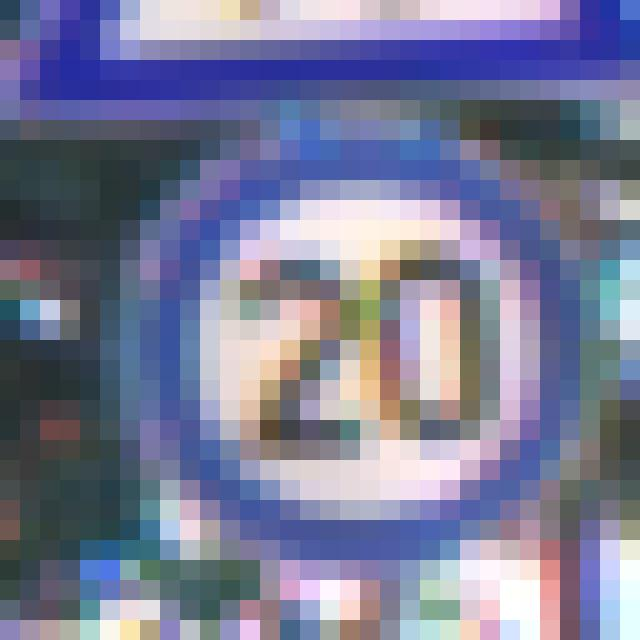SPEED LIMIT 20: (126, 139, 578, 552)
